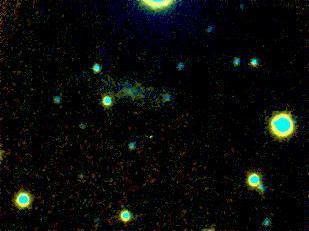star: (136, 124, 166, 154)
